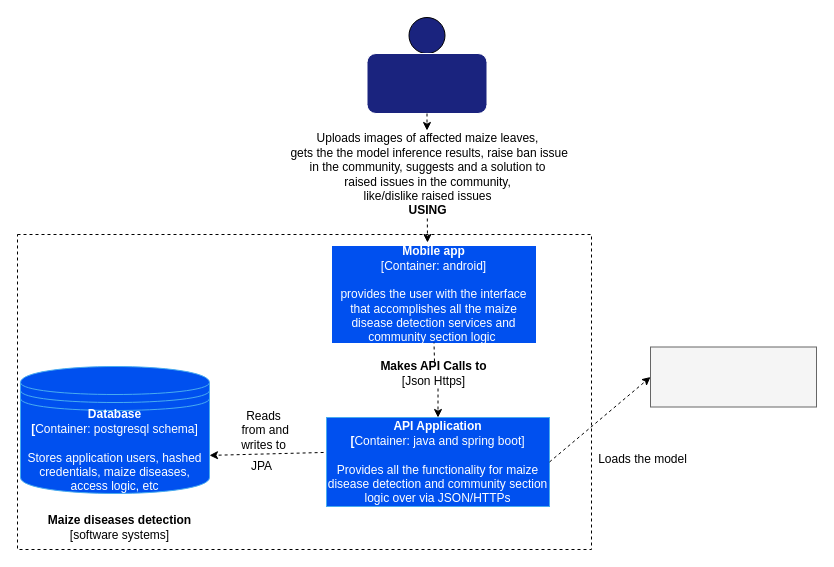
The diagram is 834 pixels wide and 567 high, and some of its shapes have lost their labels. Each missing label, with the centre of its shape:
Extension worker or a farmer [person]: the point at 426,83
Trained deep learning model [ software containing coefficients ]: the point at 733,376
